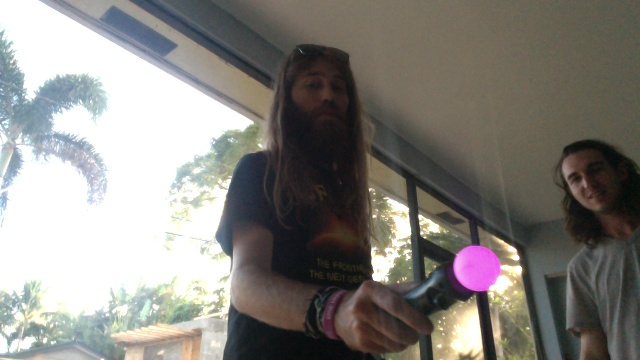wand: (454, 245, 502, 291)
